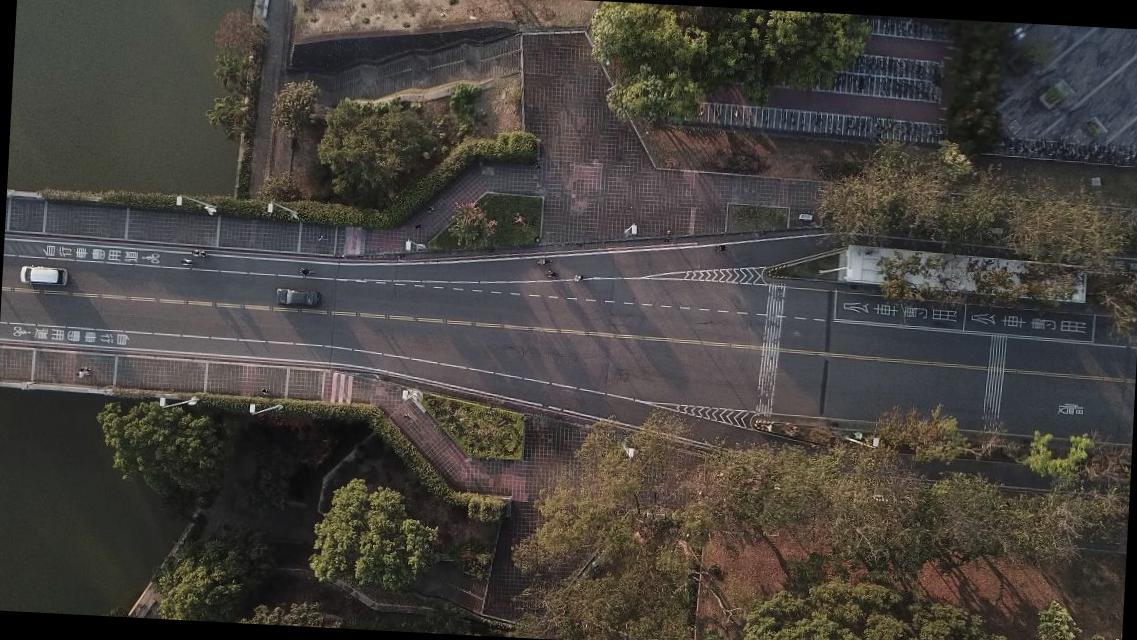vehicle: (19, 264, 67, 288), (274, 288, 320, 308)
